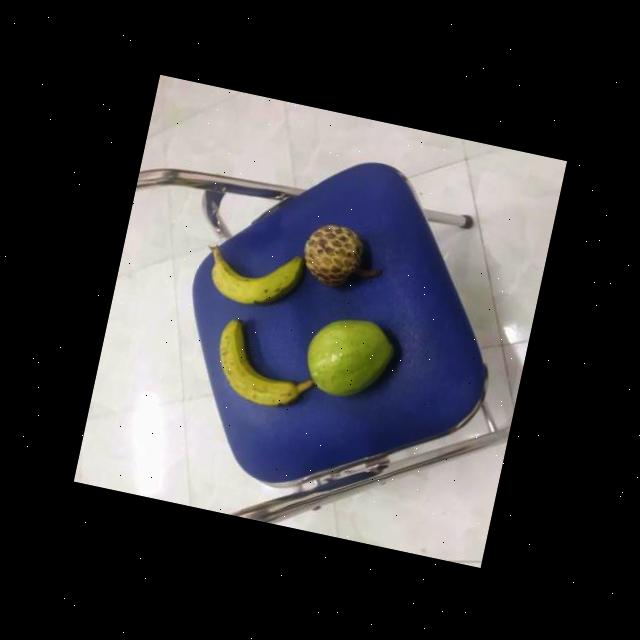Sakya fruit: (297, 218, 371, 292)
banana: (205, 315, 314, 416), (203, 237, 306, 316)
guava: (299, 306, 400, 409)
